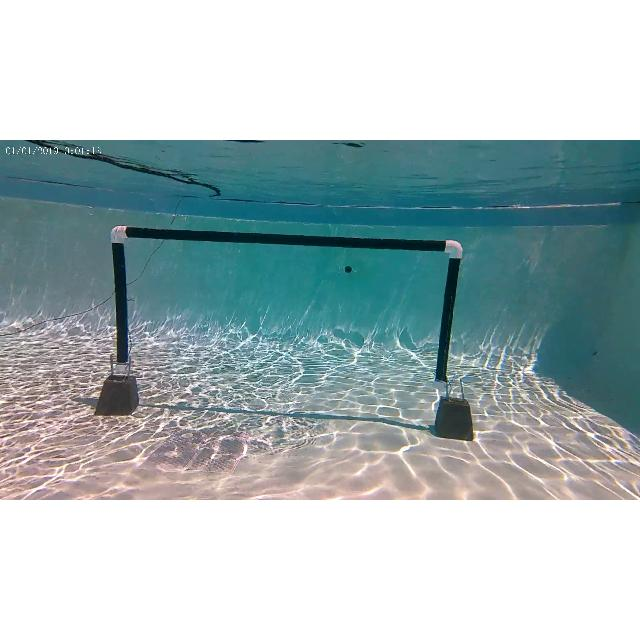prequal gate: (111, 226, 462, 386)
prequal gate leg l: (92, 227, 142, 416)
prequal gate leg r: (434, 239, 476, 441)
